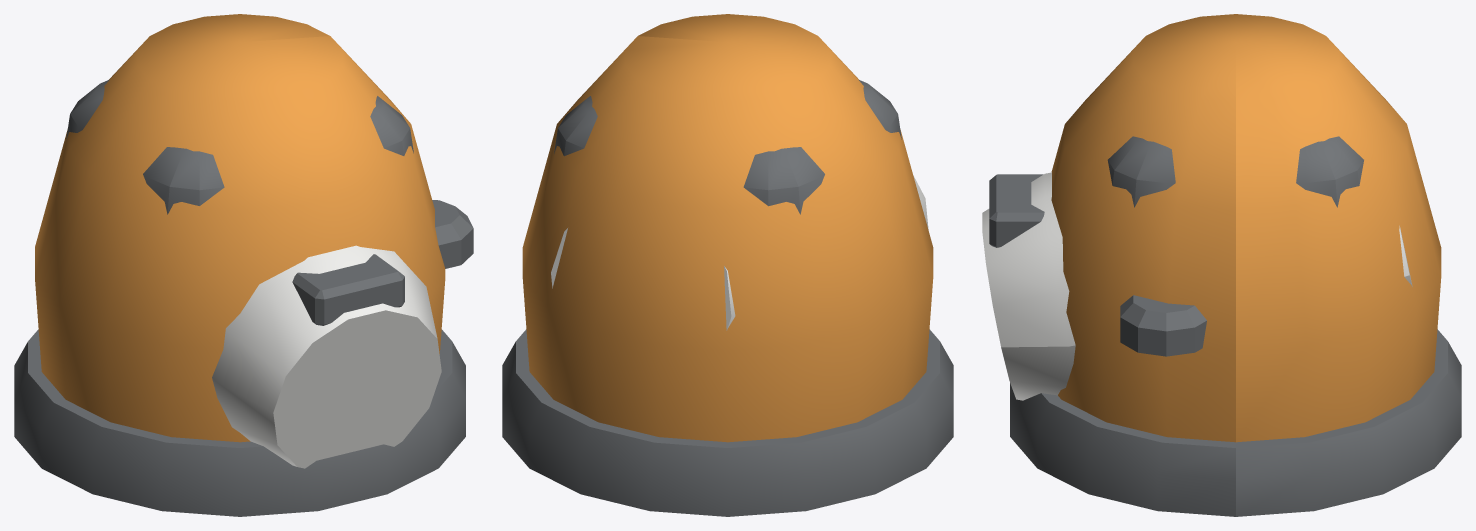
3 renders of one model, left to right at view 1: azimuth 30°, elevation 25°; view 2: azimuth 150°, elevation 25°; view 3: azimuth 270°, elevation 25°, orthographic.
Parts seen in each view (by area): view 1: random-orbit-sander; view 2: random-orbit-sander; view 3: random-orbit-sander.
Part boxes in pixels (left/top/right/bottom): random-orbit-sander: left=14, top=14, right=473, bottom=516; random-orbit-sander: left=502, top=14, right=953, bottom=516; random-orbit-sander: left=982, top=14, right=1461, bottom=516.
Size of the model in its own units: 0.132 by 0.12 by 0.138.
